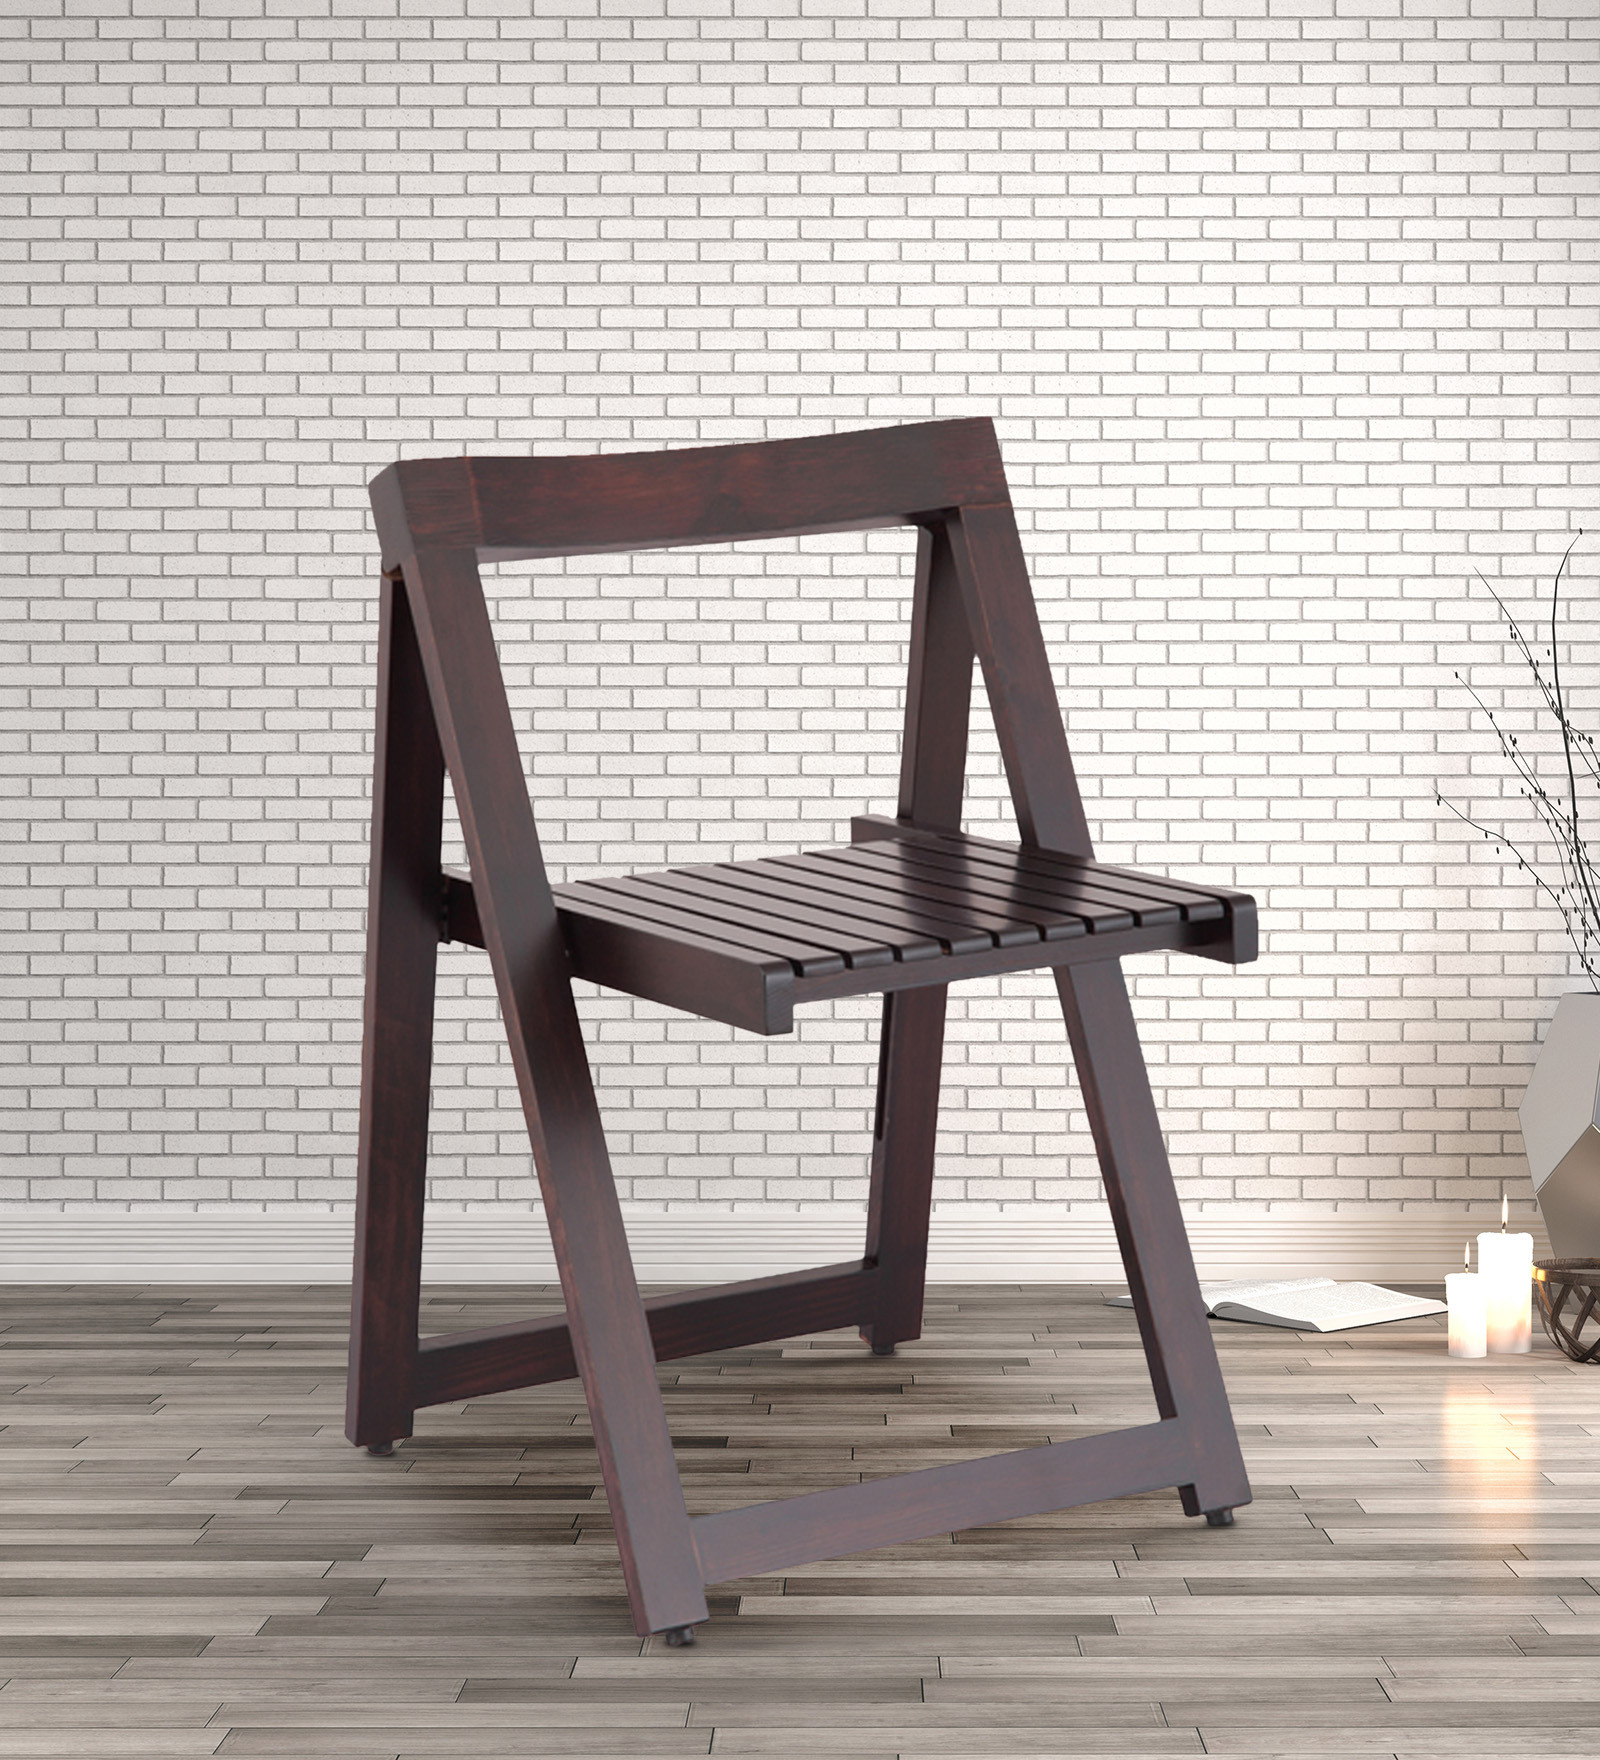Foldable Dining Chair in Ebony Finish by Ekbote Furniture: (300, 374, 1269, 1647)
